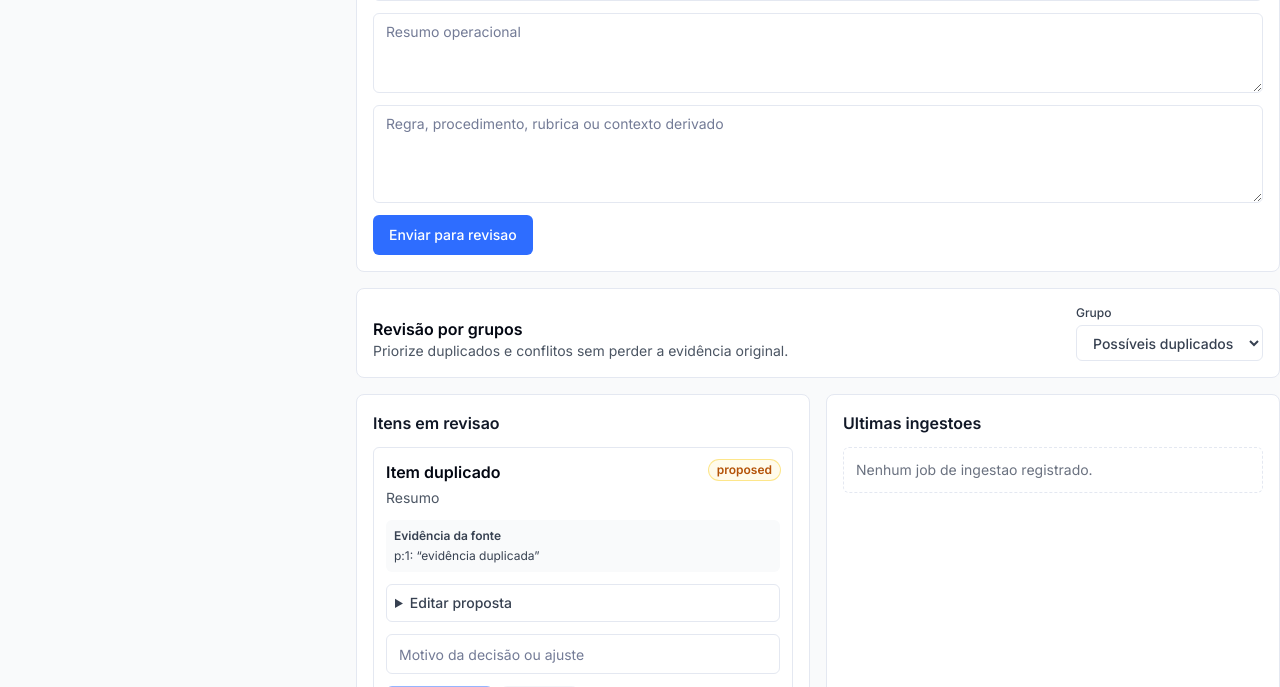
Test: StrategyPacksPanel upload › filtra possíveis duplicados e conflitos sem esconder a evidência do grupo
(page scrolled)
Select "Possíveis duplicados" in the dropdown with id "strategy-review-group". click: point(1170, 343)
box: [1076,325,1263,361]
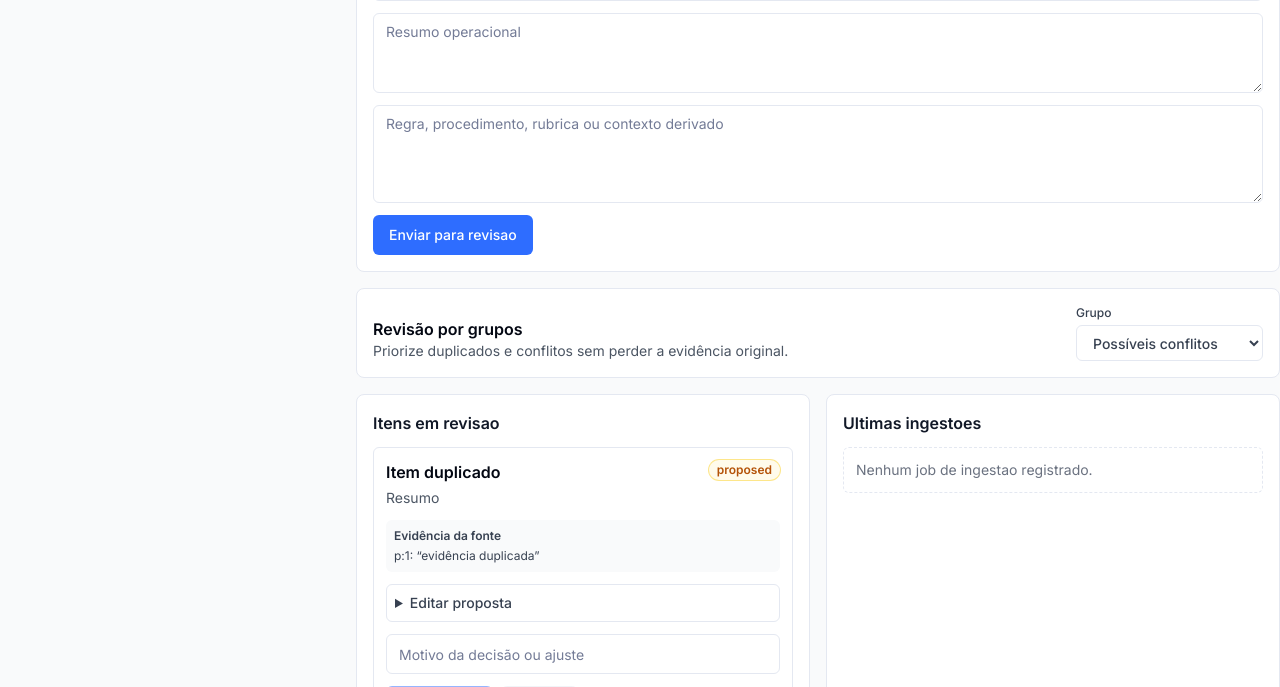
Expected: the text "Item duplicado" is shown, [386,460,501,484]
Expected: the text "Item conflitante" is not shown
Select "Possíveis conflitos" in the dropdown with id "strategy-review-group". click: point(1170, 343)
box: [1076,325,1263,361]
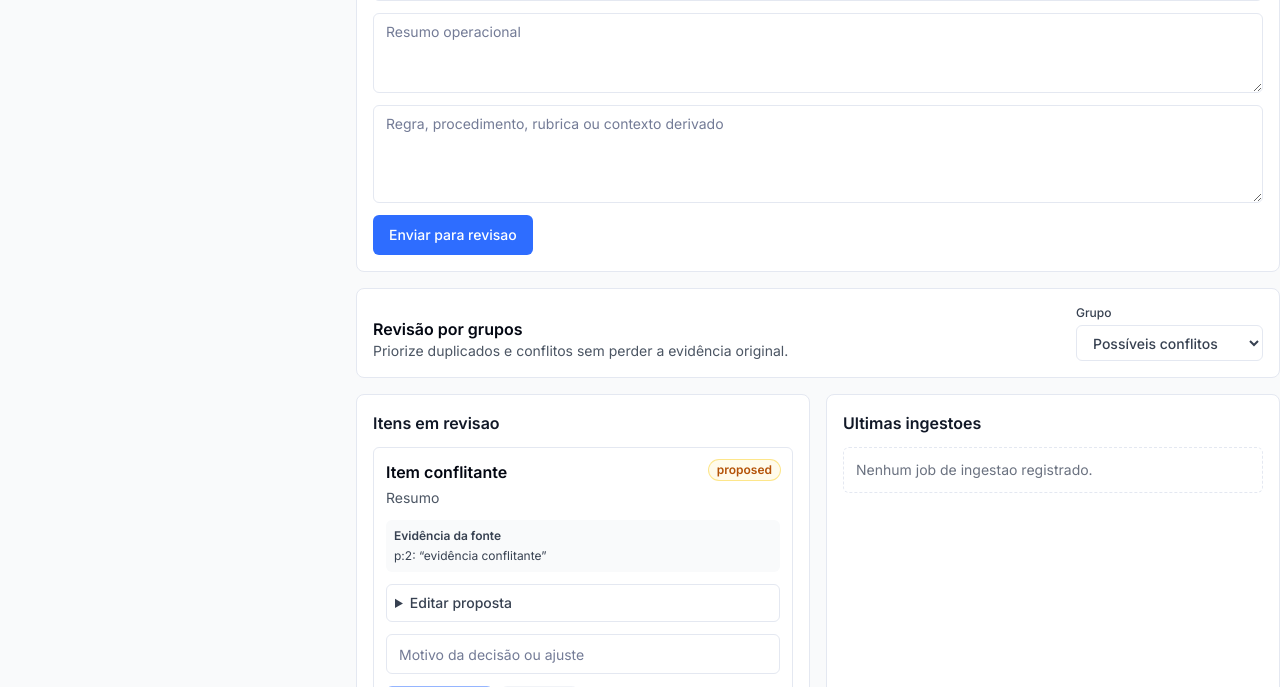
Now the text "Item conflitante" is shown, box [386,460,507,484]
Now the text "Item duplicado" is gone
